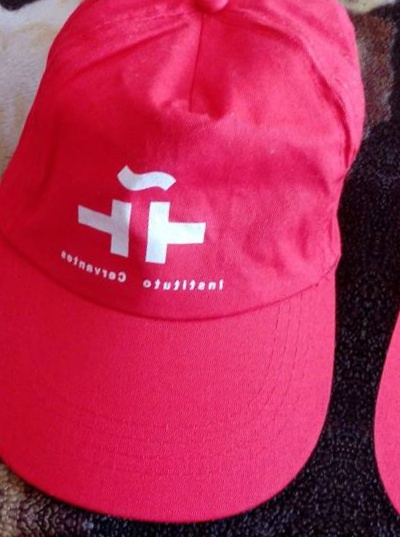Hat: (0, 0, 398, 537), (350, 0, 400, 537), (0, 0, 16, 482), (0, 522, 308, 537)
